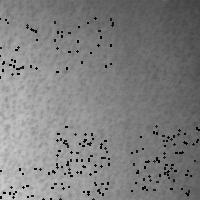pitted_surface: (2, 3, 99, 195), (152, 3, 198, 196), (48, 140, 108, 200), (131, 133, 190, 193), (52, 126, 107, 183), (54, 17, 112, 71), (153, 125, 200, 181), (0, 18, 36, 76), (0, 168, 42, 200)
